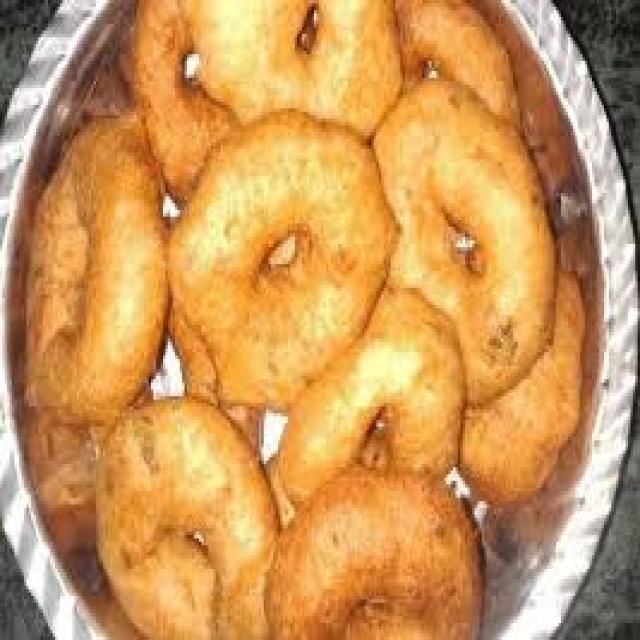MEDU VADA: (174, 118, 395, 434), (376, 78, 559, 399), (27, 126, 164, 447), (94, 401, 276, 637), (256, 463, 485, 637), (462, 269, 600, 507), (186, 0, 412, 134), (143, 0, 236, 184), (402, 1, 521, 113)
